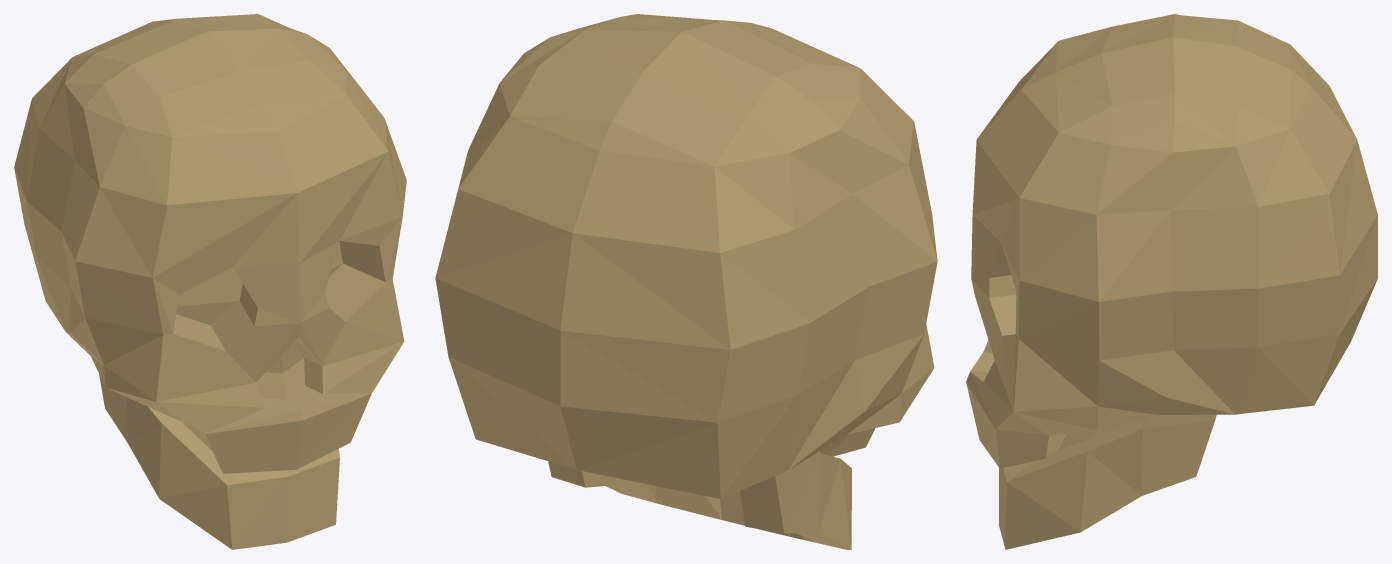
Rendered from skull.glb.
3 renders of one model, left to right at view 1: azimuth 30°, elevation 25°; view 2: azimuth 150°, elevation 25°; view 3: azimuth 270°, elevation 25°, orthographic. The views are drawn at different scales.
Parts seen in each view (by area): view 1: Skull; view 2: Skull; view 3: Skull.
Boxes of the visible parts, x1=… form: Skull: x1=14, y1=14, x2=406, y2=549; Skull: x1=435, y1=14, x2=937, y2=549; Skull: x1=966, y1=14, x2=1377, y2=549.
Size of the model in its own units: 58.3 by 75.96 by 58.
